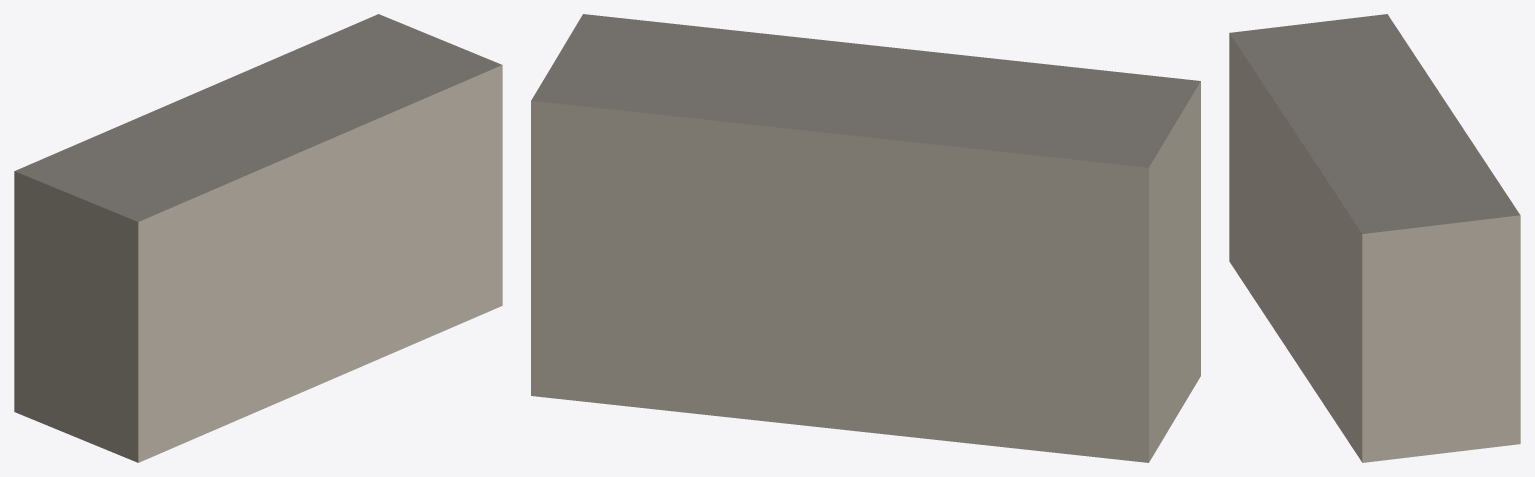
The picture shows the model from 3 angles, left to right: view 1: azimuth 30°, elevation 25°; view 2: azimuth 150°, elevation 25°; view 3: azimuth 270°, elevation 25°; orthographic projection. The views are drawn at different scales.
Visible parts, largest first — view 1: HP-w378107095; view 2: HP-w378107095; view 3: HP-w378107095.
Boxes of the visible parts, left/top/right/bottom form: HP-w378107095: left=14, top=14, right=502, bottom=462; HP-w378107095: left=531, top=14, right=1200, bottom=462; HP-w378107095: left=1229, top=14, right=1520, bottom=462.
Size of the model in its own units: 37.13 by 18 by 20.74.
